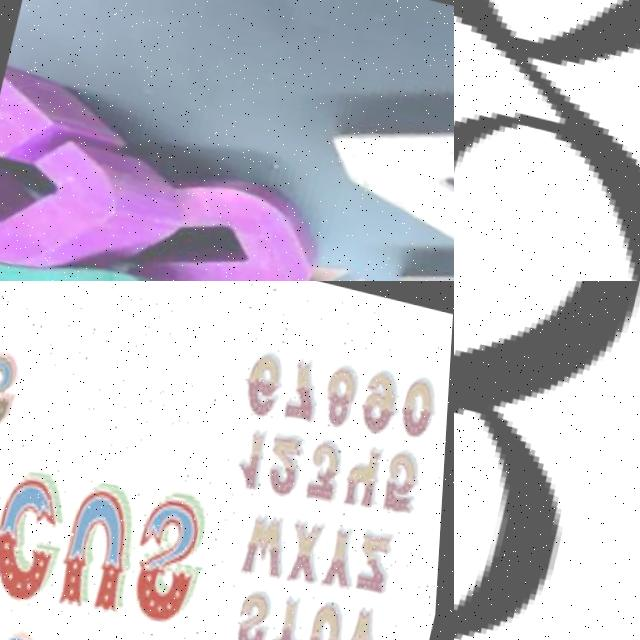0: (395, 365, 442, 434)
1: (237, 425, 270, 485)
2: (262, 425, 309, 495)
3: (301, 432, 348, 499)
4: (343, 436, 387, 501)
5: (378, 439, 428, 510)
6: (240, 337, 289, 415)
7: (277, 347, 327, 419)
8: (454, 281, 640, 640), (317, 355, 362, 422)
9: (355, 355, 407, 429)
G: (0, 60, 201, 281)
Q: (454, 0, 640, 281)
Z: (293, 65, 454, 281)
